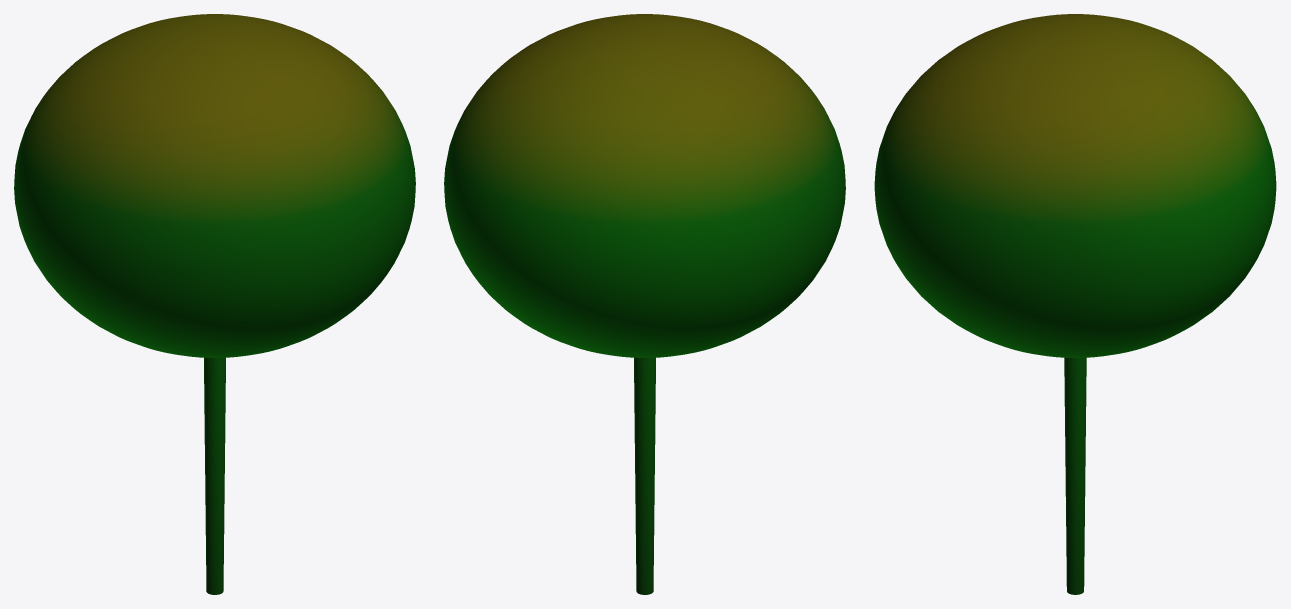
The model's file is reefball_drop_proxy.glb.
3 renders of one model, left to right at view 1: azimuth 30°, elevation 25°; view 2: azimuth 150°, elevation 25°; view 3: azimuth 270°, elevation 25°, orthographic.
Visible parts, largest first — view 1: reefball_drop_proxy; view 2: reefball_drop_proxy; view 3: reefball_drop_proxy.
Part boxes in pixels (<box>): reefball_drop_proxy: <box>14,14,415,594</box>; reefball_drop_proxy: <box>444,14,845,594</box>; reefball_drop_proxy: <box>874,14,1276,594</box>.
Size of what is drawn, in the model's own units: 28 by 42.65 by 28.
